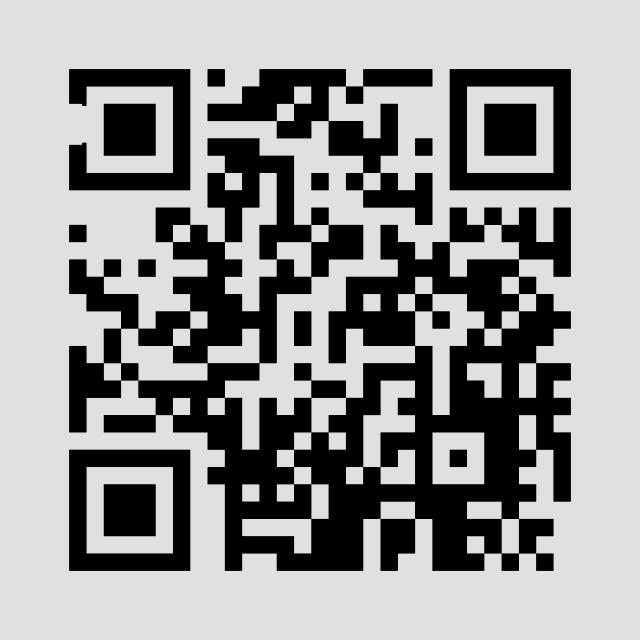QRCode: (49, 53, 601, 589)
